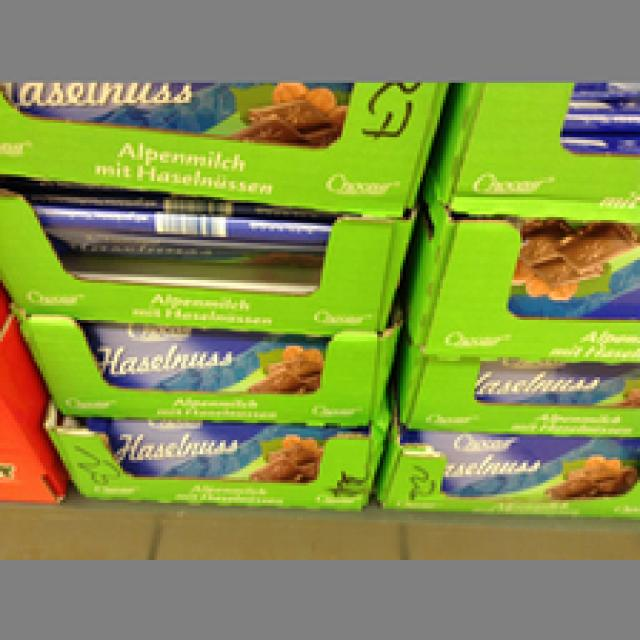groceries: (31, 197, 326, 266), (77, 323, 329, 391), (77, 417, 349, 480), (406, 429, 637, 500), (494, 217, 637, 320)
